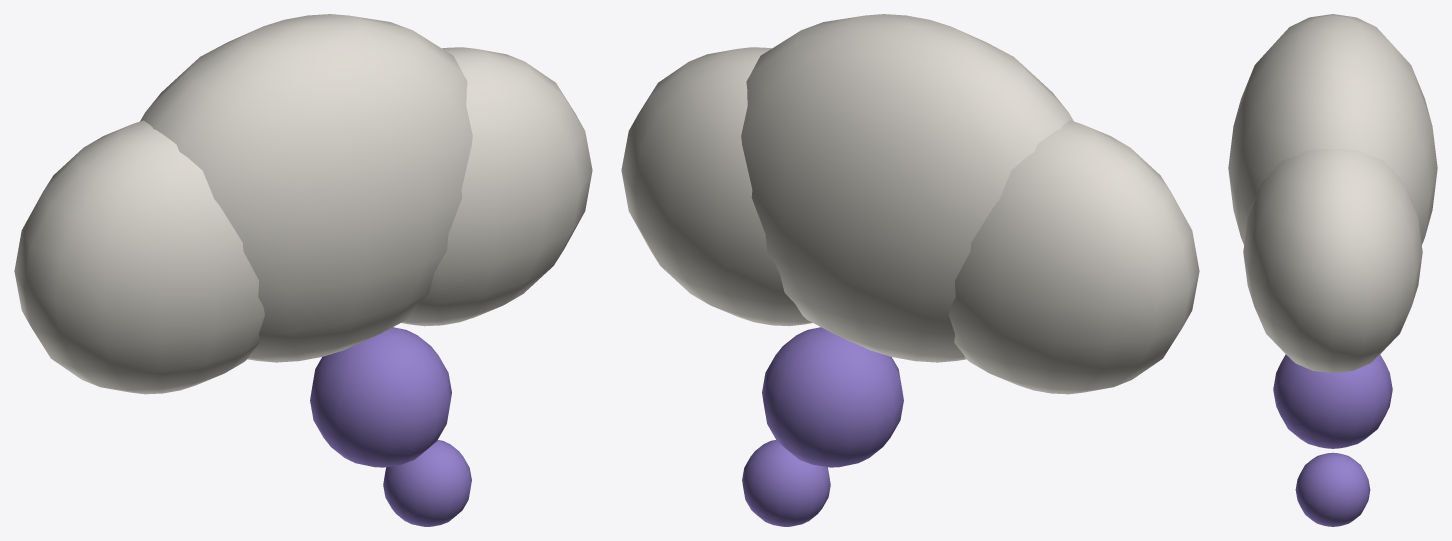
File: Feedback_Thinking.fbx
3 views of the same model, side by side, from view 1: azimuth 30°, elevation 25°; view 2: azimuth 150°, elevation 25°; view 3: azimuth 270°, elevation 25° (orthographic). The views are drawn at different scales.
Visible parts, largest first — view 1: FeedbackThinking_CreamCeramic, FeedbackThinking_Researcher_Lavender; view 2: FeedbackThinking_CreamCeramic, FeedbackThinking_Researcher_Lavender; view 3: FeedbackThinking_CreamCeramic, FeedbackThinking_Researcher_Lavender.
Boxes of the visible parts, <box> form: FeedbackThinking_CreamCeramic: <box>14,14,592,394</box>; FeedbackThinking_Researcher_Lavender: <box>310,327,471,526</box>; FeedbackThinking_CreamCeramic: <box>621,14,1199,394</box>; FeedbackThinking_Researcher_Lavender: <box>742,327,903,526</box>; FeedbackThinking_CreamCeramic: <box>1228,14,1437,373</box>; FeedbackThinking_Researcher_Lavender: <box>1273,354,1392,526</box>.
Bounding box in the file's own units: 3.6 × 3.25 × 1.4.
